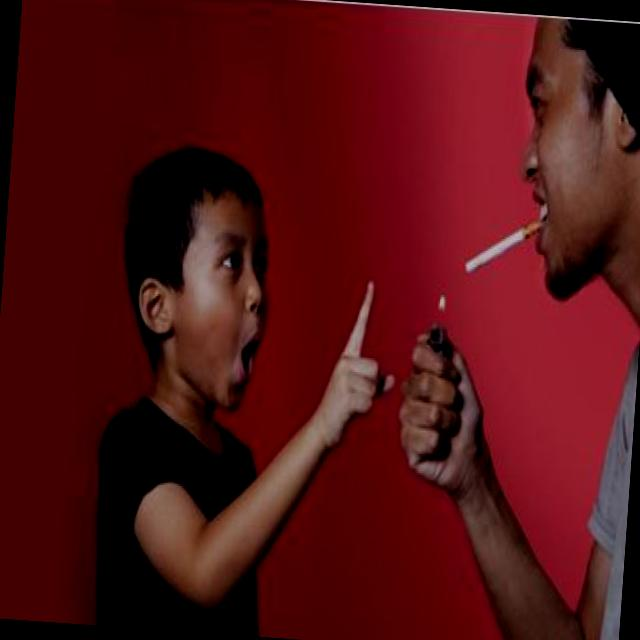smoke: (463, 214, 542, 282)
